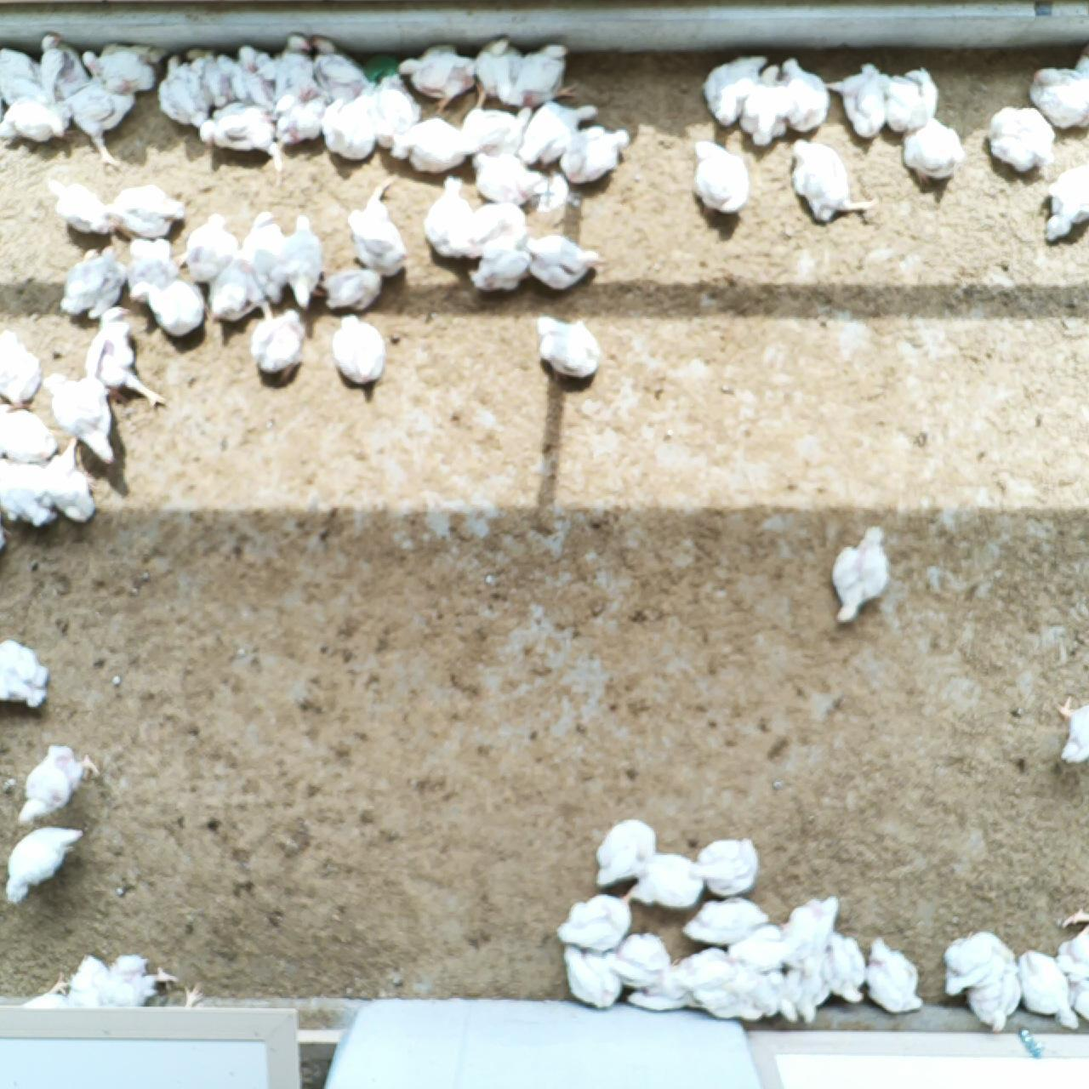chicken: (88, 305, 169, 414), (790, 135, 882, 228), (15, 739, 101, 828), (197, 101, 283, 189), (675, 945, 770, 1021), (70, 945, 181, 1009), (48, 368, 118, 469), (3, 826, 85, 909), (57, 83, 137, 168), (346, 173, 410, 279), (420, 168, 487, 265), (393, 42, 480, 114), (385, 107, 478, 174), (831, 526, 892, 626), (827, 56, 896, 140), (938, 930, 1018, 1002), (698, 52, 771, 129), (981, 100, 1054, 176), (1016, 947, 1084, 1028), (863, 934, 928, 1017), (57, 242, 127, 319), (882, 60, 949, 138), (1026, 52, 1089, 134), (322, 87, 389, 164), (127, 278, 213, 337), (776, 892, 840, 971), (622, 851, 709, 909), (108, 178, 189, 240), (689, 139, 752, 218), (204, 249, 271, 323), (553, 888, 631, 951), (557, 944, 624, 1016), (535, 312, 603, 382), (779, 52, 835, 137), (44, 171, 116, 237), (689, 835, 762, 900), (369, 73, 430, 150), (1, 452, 63, 527), (559, 123, 634, 185), (904, 113, 971, 182), (465, 232, 536, 297), (474, 31, 533, 109), (522, 235, 607, 289), (150, 57, 213, 128), (330, 313, 389, 388), (180, 211, 243, 281), (678, 895, 769, 943), (738, 64, 789, 149), (470, 151, 546, 208), (964, 966, 1023, 1039), (245, 309, 310, 375), (521, 37, 589, 100), (595, 818, 657, 886), (183, 41, 243, 111), (1040, 160, 1089, 245), (459, 105, 539, 157), (1, 91, 76, 145), (125, 232, 185, 299), (53, 432, 95, 527), (271, 88, 334, 151), (627, 968, 703, 1019), (81, 48, 161, 96), (1, 402, 58, 468), (818, 931, 868, 1006), (1, 330, 44, 415), (468, 197, 531, 255), (1, 638, 50, 711), (252, 209, 291, 299), (274, 31, 319, 107), (41, 35, 94, 99), (530, 171, 586, 228), (617, 933, 674, 988), (238, 43, 284, 111), (725, 924, 789, 972), (1051, 693, 1089, 767), (322, 266, 389, 307), (1, 49, 48, 106), (16, 972, 87, 1009), (1058, 901, 1089, 980), (280, 209, 324, 263), (282, 256, 327, 307), (1061, 960, 1089, 1027), (801, 954, 826, 1023), (773, 966, 802, 1024), (173, 975, 214, 1010), (1, 528, 10, 553)
